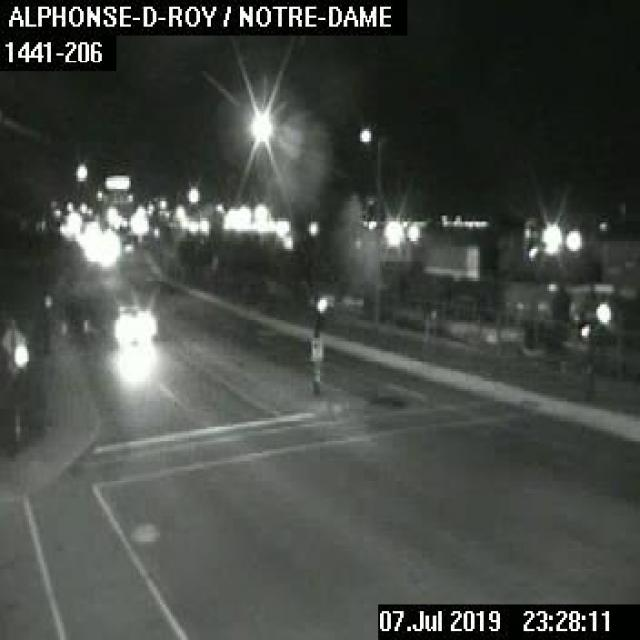vehicle: (108, 300, 156, 338)
